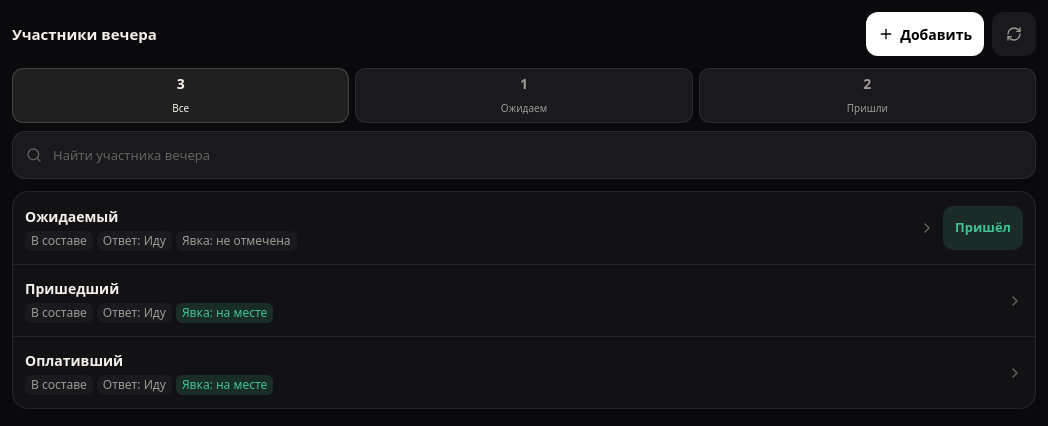
Test case: Mounted evening lists › keeps the expected queue selected after recording the last arrival
Expected: the text "Ожидаемый" is shown, [25,206,118,226]
Click the button "1 Ожидаем" at (524, 96), box [355,68,693,123]
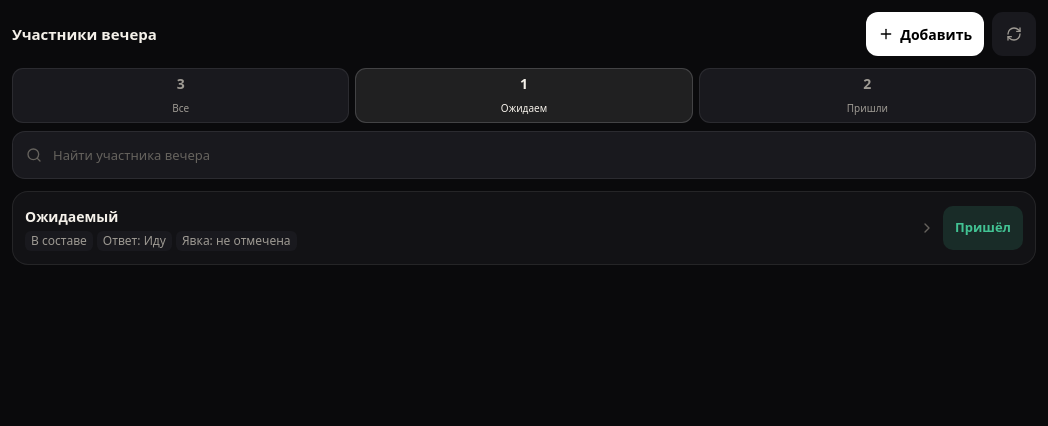
Click the button "Пришёл" at (983, 228), box [943,206,1023,250]
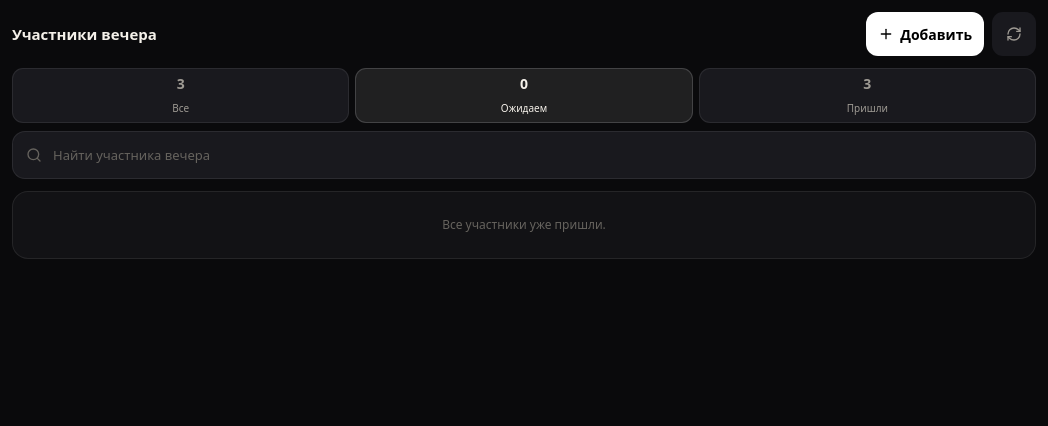
Now the text "Все участники уже пришли." is shown, box [442,216,606,233]
